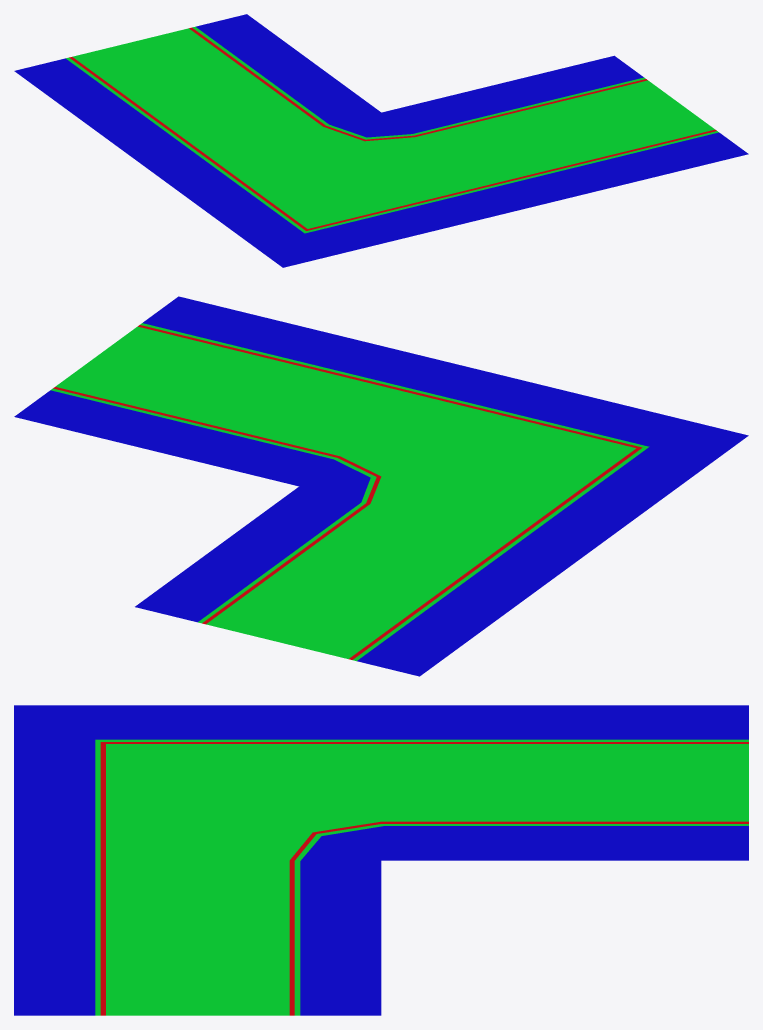
The model's file is thin_turn.fbx.
3 views of the same model, one above another, from view 1: azimuth 30°, elevation 25°; view 2: azimuth 150°, elevation 25°; view 3: azimuth 270°, elevation 25° (orthographic). The views are drawn at different scales.
Parts seen in each view (by area): view 1: Plane.078; view 2: Plane.078; view 3: Plane.078.
Boxes of the visible parts, left/top/right/bottom form: Plane.078: left=14, top=14, right=748, bottom=267; Plane.078: left=14, top=296, right=748, bottom=676; Plane.078: left=14, top=705, right=748, bottom=1015.
Size of the model in its own units: 800 by 0.00013 by 800.
